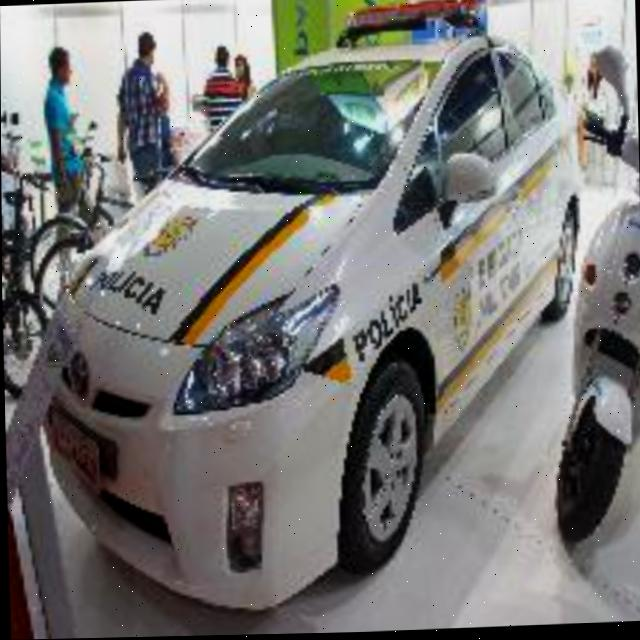emergency: (29, 0, 595, 624)
